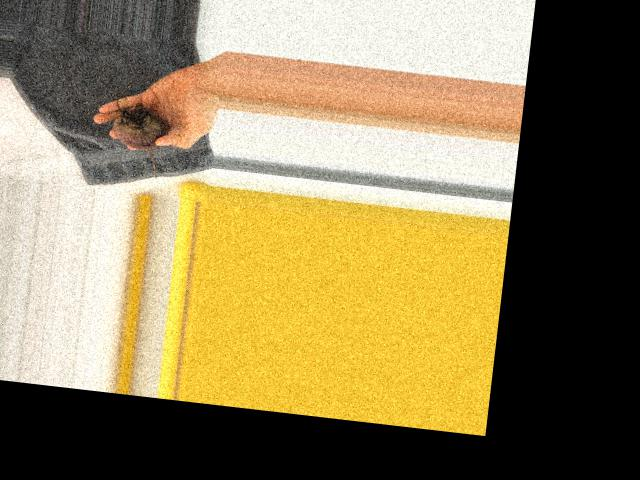beet: (108, 102, 171, 179)
